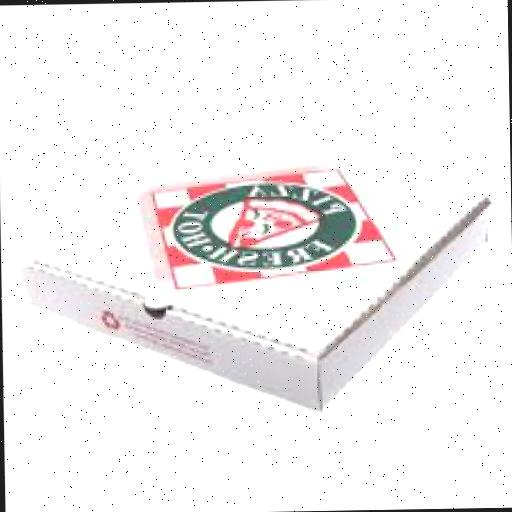cardboard: (21, 125, 496, 414)
